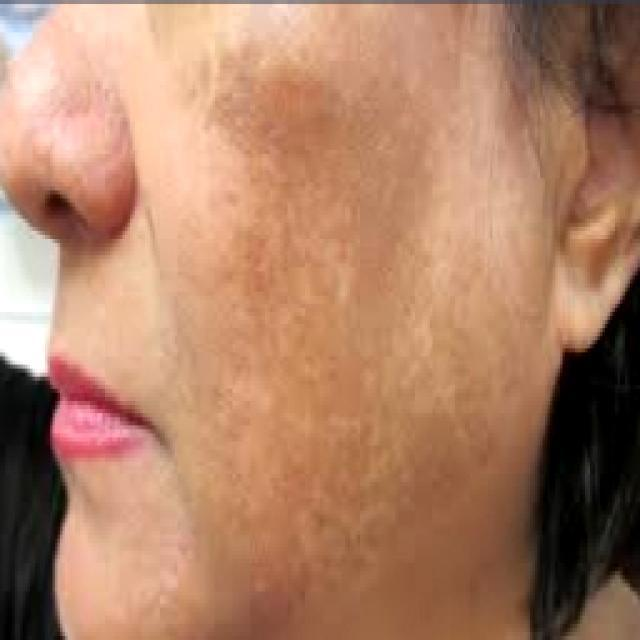Melasma: (168, 38, 530, 634)
